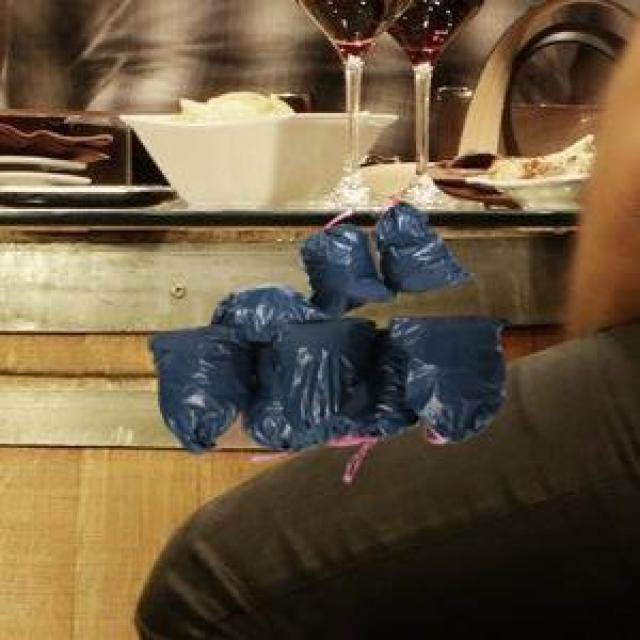Trashbag: (389, 310, 510, 442), (263, 316, 381, 435), (148, 321, 252, 452), (371, 199, 476, 293), (299, 215, 386, 320)
